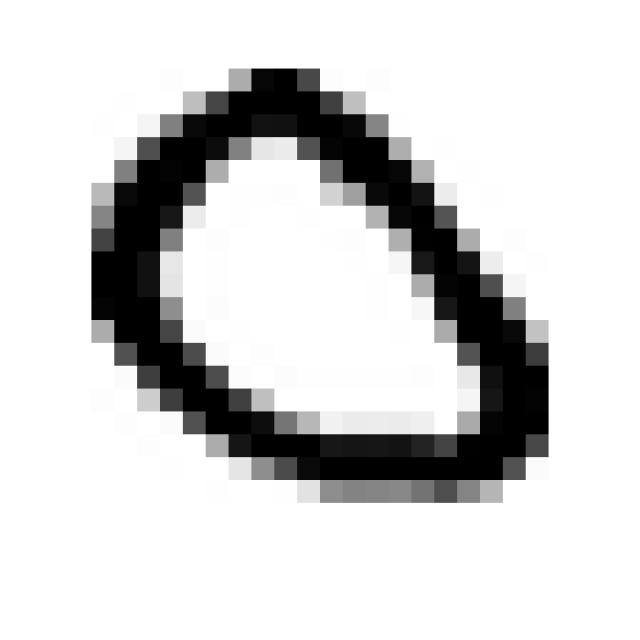5 -five-: (69, 48, 568, 517)
